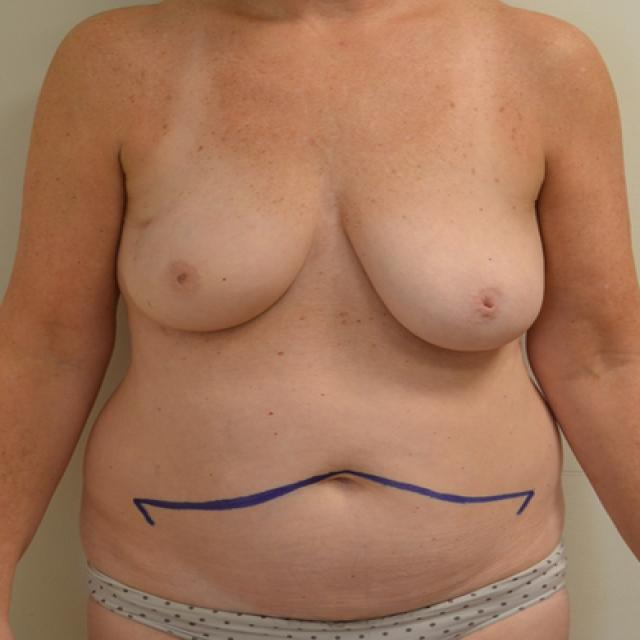Seno ileso: (331, 155, 554, 368), (109, 155, 326, 349)
